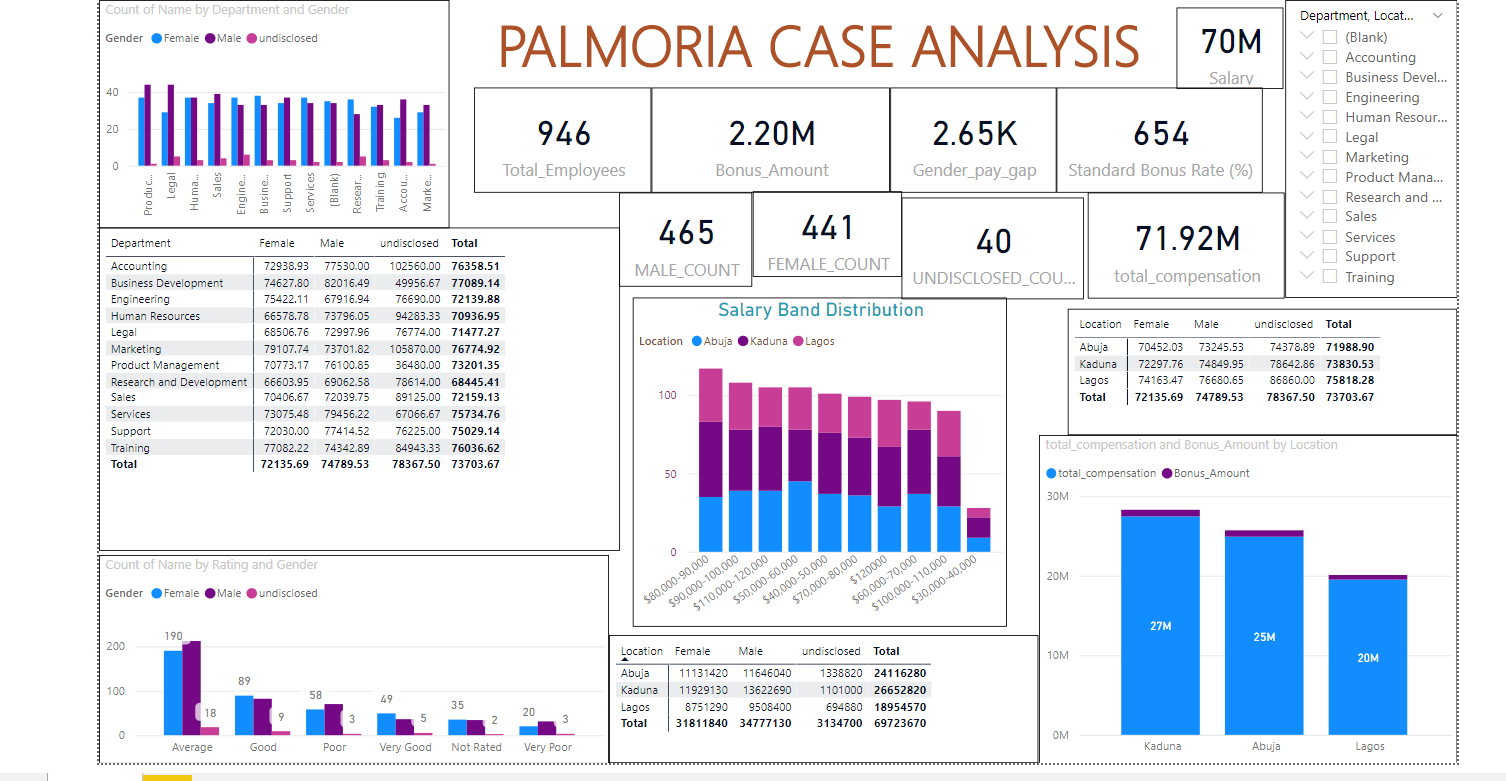

The dashboard page shown, as its layout file describes it:
{"tool":"powerbi","page":{"name":"Page 1","canvas":[1280,720],"ordinal":0},"visuals":[{"type":"clusteredColumnChart","fields":{"Category":["Bonus Rules.Department"],"Series":["Merge1.Gender"],"Y":["CountNonNull(Merge1.Name)"]},"box":[0,0,330,215],"z":0},{"type":"lineClusteredColumnComboChart","fields":{"Category":["Merge1.Rating"],"Series":["Merge1.Gender"],"Y":["CountNonNull(Merge1.Name)"]},"box":[0,523,481,197],"z":1000},{"type":"pivotTable","fields":{"Rows":["Merge1.Location","Merge1.Department"],"Columns":["Merge1.Gender"],"Values":["Sum(Merge1.Salary)"]},"box":[481,599,405,121],"z":2000},{"type":"pivotTable","fields":{"Rows":["Merge1.Department","Merge1.Location"],"Columns":["Merge1.Gender"],"Values":["Avg(Merge1.Salary)"]},"box":[0,215,491,305],"z":3000},{"type":"card","fields":{"Values":["Bonus Rules.Gender_pay_gap"]},"box":[746,83,157,99],"z":4000},{"type":"card","fields":{"Values":["Bonus Rules.below_90k"]},"box":[903,83,194,99],"z":5000},{"type":"lineStackedColumnComboChart","title":"Salary Band Distribution","fields":{"Category":["Merge1.Salary Band"],"Series":["Merge1.Location"],"Y":["CountNonNull(Merge1.Name)"]},"box":[503,281,353,310],"z":6000},{"type":"columnChart","fields":{"Category":["Merge1.Location"],"Y":["Sum(Merge1.total_compensation)","Sum(Merge1.Bonus_Amount)"]},"box":[886,410,394,310],"z":7000},{"type":"card","fields":{"Values":["Sum(Merge1.total_compensation)"]},"box":[931.7,181.7,185.8,99.7],"z":8000},{"type":"card","fields":{"Values":["Sum(Merge1.Bonus_Amount)"]},"box":[521,83,225,99],"z":9000},{"type":"slicer","fields":{"Values":["Bonus Rules.Department","Merge1.Location"]},"box":[1118,0,162,281],"z":10000},{"type":"pivotTable","fields":{"Rows":["Merge1.Location"],"Columns":["Merge1.Gender"],"Values":["Avg(Merge1.Salary)"]},"box":[913,291,367,119],"z":11000},{"type":"card","fields":{"Values":["Bonus Rules.Total_Employees"]},"box":[354,82,167,99],"z":12000},{"type":"textbox","box":[326,0,705,82],"z":13000},{"type":"card","fields":{"Values":["Sum(Merge1.Salary)"]},"box":[1016.4,6.8,101.1,76.5],"z":14000},{"type":"card","fields":{"Values":["Bonus Rules.MALE_COUNT"]},"box":[490.4,181.7,125.7,88.8],"z":15000},{"type":"card","fields":{"Values":["Bonus Rules.FEMALE_COUNT"]},"box":[616.1,180.3,140.7,80.6],"z":15001},{"type":"card","fields":{"Values":["Bonus Rules.DISCLOUSE_COUNT"]},"box":[756.8,185.8,172.1,95.6],"z":15002}]}

Visuals, with their boxes in screenshot pixels (x1, y1, x2, y2):
clusteredColumnChart - Bonus Rules.Department x Merge1.Gender: (90,0,443,222)
lineClusteredColumnComboChart - Merge1.Rating x Merge1.Gender: (90,551,604,762)
pivotTable - Merge1.Location x Merge1.Department: (604,632,1037,762)
pivotTable - Merge1.Department x Merge1.Location: (90,222,615,548)
card - Bonus Rules.Gender_pay_gap: (888,81,1055,187)
card - Bonus Rules.below_90k: (1055,81,1263,187)
"Salary Band Distribution" lineStackedColumnComboChart: (628,293,1005,624)
columnChart - Merge1.Location x Sum(Merge1.total_compensation): (1037,430,1458,762)
card - Sum(Merge1.total_compensation): (1086,186,1285,293)
card - Sum(Merge1.Bonus_Amount): (647,81,888,187)
slicer - Bonus Rules.Department x Merge1.Location: (1285,0,1458,293)
pivotTable - Merge1.Location x Merge1.Gender: (1066,303,1458,430)
card - Bonus Rules.Total_Employees: (469,80,647,186)
textbox: (439,0,1192,80)
card - Sum(Merge1.Salary): (1177,0,1285,81)
card - Bonus Rules.MALE_COUNT: (614,186,749,281)
card - Bonus Rules.FEMALE_COUNT: (749,185,899,271)
card - Bonus Rules.DISCLOUSE_COUNT: (899,191,1083,293)
